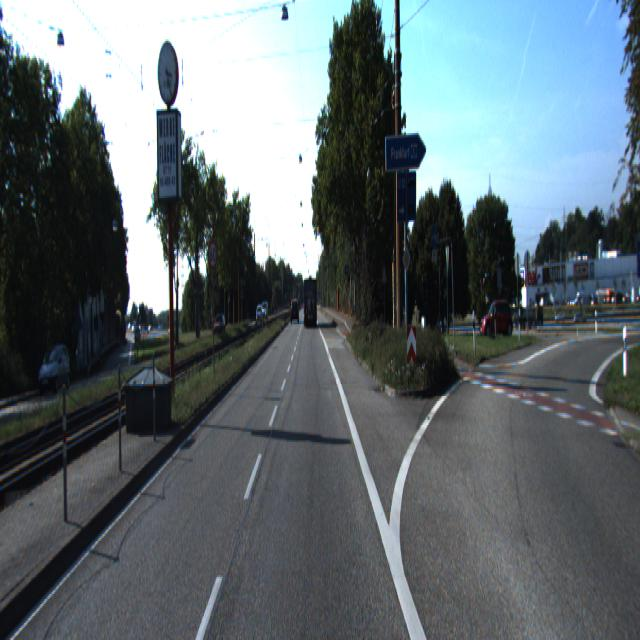Car: (38, 345, 72, 396), (480, 299, 514, 339), (304, 278, 318, 329)
